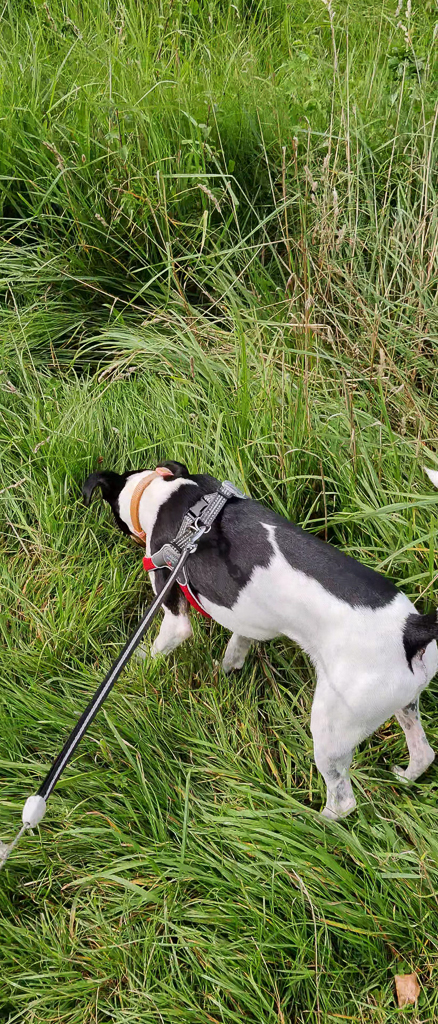Dog: (74, 426, 438, 846)
